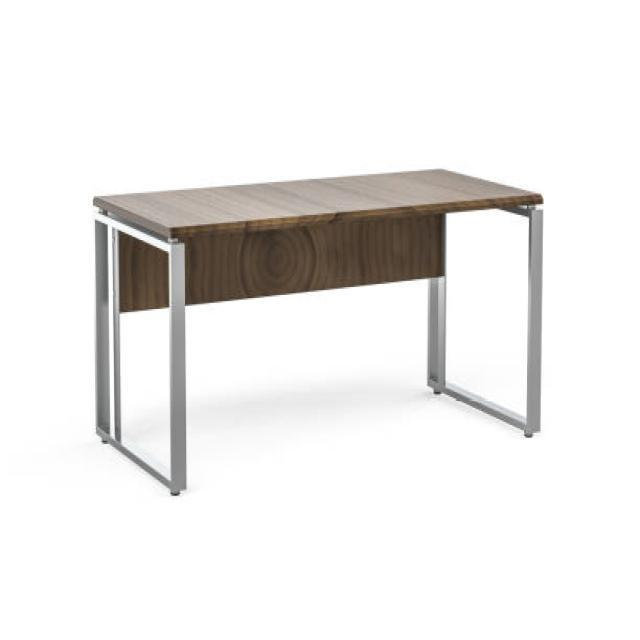table: (91, 166, 544, 496)
